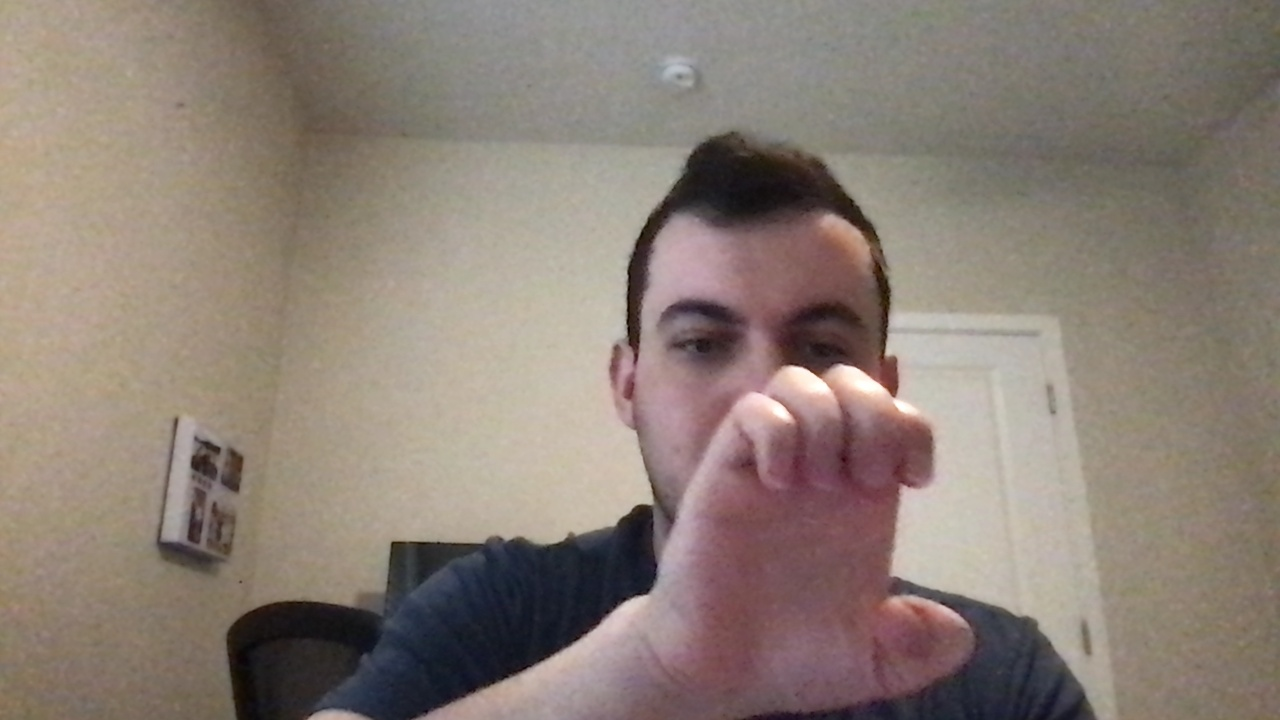e: (670, 367, 996, 713)
